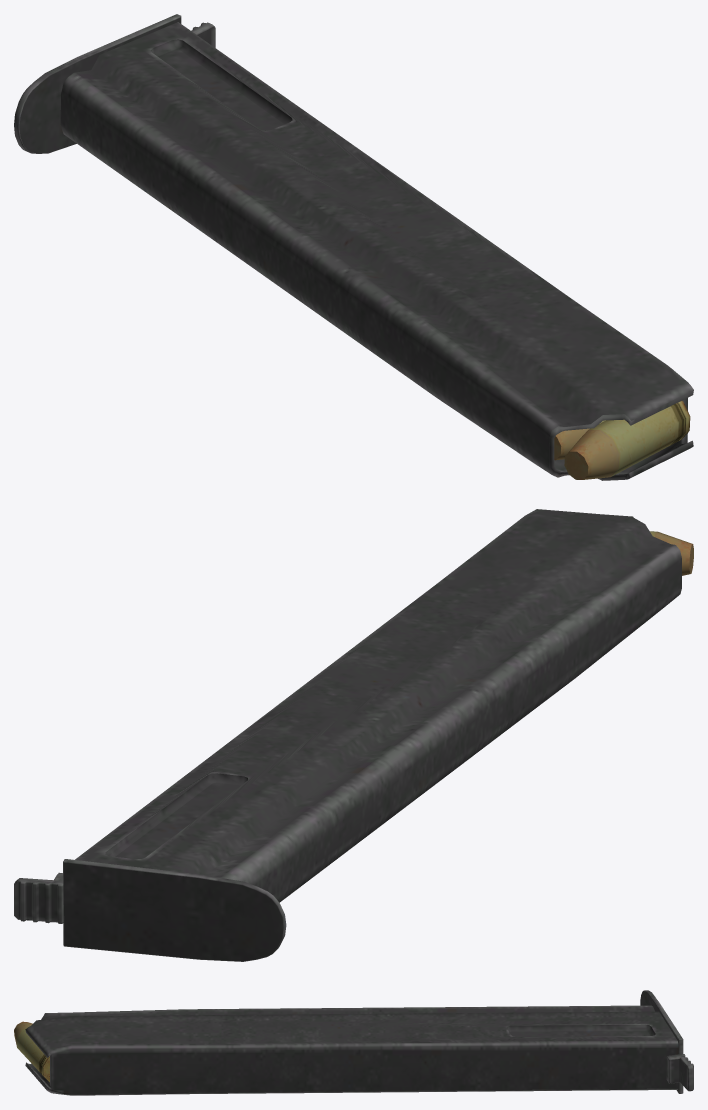
Rendered from sm71_901_vp70longmagazine.fbx.
3 renders of one model, top to bottom at view 1: azimuth 30°, elevation 25°; view 2: azimuth 150°, elevation 25°; view 3: azimuth 270°, elevation 25°, orthographic. The views are drawn at different scales.
Visible parts, largest first — view 1: LOD_1_Group_0_Sub_1__wp0000_PowerUp_Mat, LOD_1_Group_0_Sub_2__sm70_100_HandGun_Bullet01A__AST_A_Mat; view 2: LOD_1_Group_0_Sub_1__wp0000_PowerUp_Mat; view 3: LOD_1_Group_0_Sub_1__wp0000_PowerUp_Mat, LOD_1_Group_0_Sub_2__sm70_100_HandGun_Bullet01A__AST_A_Mat.
Part boxes in pixels (x1,y1,x2,y2): LOD_1_Group_0_Sub_1__wp0000_PowerUp_Mat: [14, 14, 693, 480]; LOD_1_Group_0_Sub_2__sm70_100_HandGun_Bullet01A__AST_A_Mat: [554, 401, 690, 479]; LOD_1_Group_0_Sub_1__wp0000_PowerUp_Mat: [14, 509, 681, 961]; LOD_1_Group_0_Sub_1__wp0000_PowerUp_Mat: [25, 990, 693, 1095]; LOD_1_Group_0_Sub_2__sm70_100_HandGun_Bullet01A__AST_A_Mat: [14, 1021, 49, 1082].
Size of the model in its own units: 0.0508 by 0.0177 by 0.1981.
